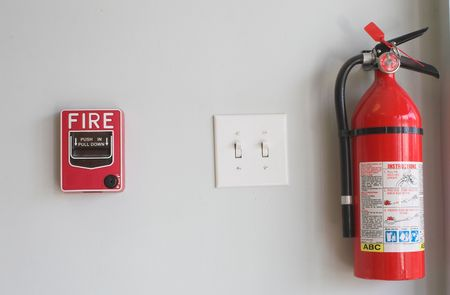fire_extinguisher: (334, 21, 440, 281)
